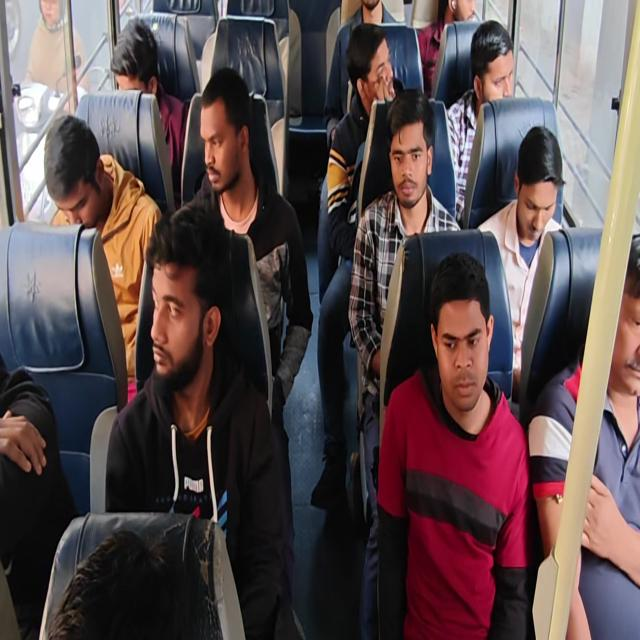person: (2, 1, 638, 638), (104, 200, 290, 638), (183, 66, 313, 596), (348, 87, 462, 637), (376, 251, 532, 638), (528, 231, 639, 638), (310, 22, 401, 510), (43, 113, 162, 405), (477, 124, 566, 401), (0, 351, 77, 638), (326, 22, 400, 260), (46, 528, 199, 639), (110, 18, 189, 206), (446, 19, 515, 225), (323, 0, 406, 152), (24, 0, 90, 112), (417, 0, 476, 98)
